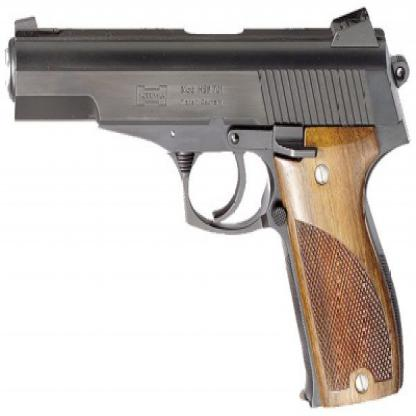Guns: (2, 3, 410, 415)
